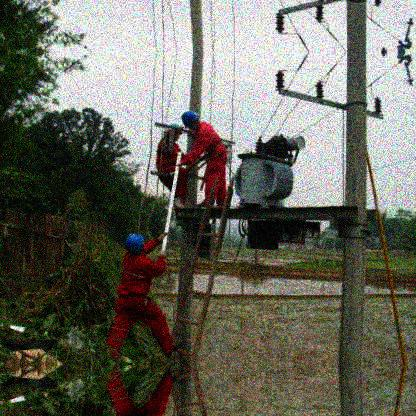helmet: (124, 234, 146, 257), (181, 111, 200, 129), (167, 124, 183, 141)
